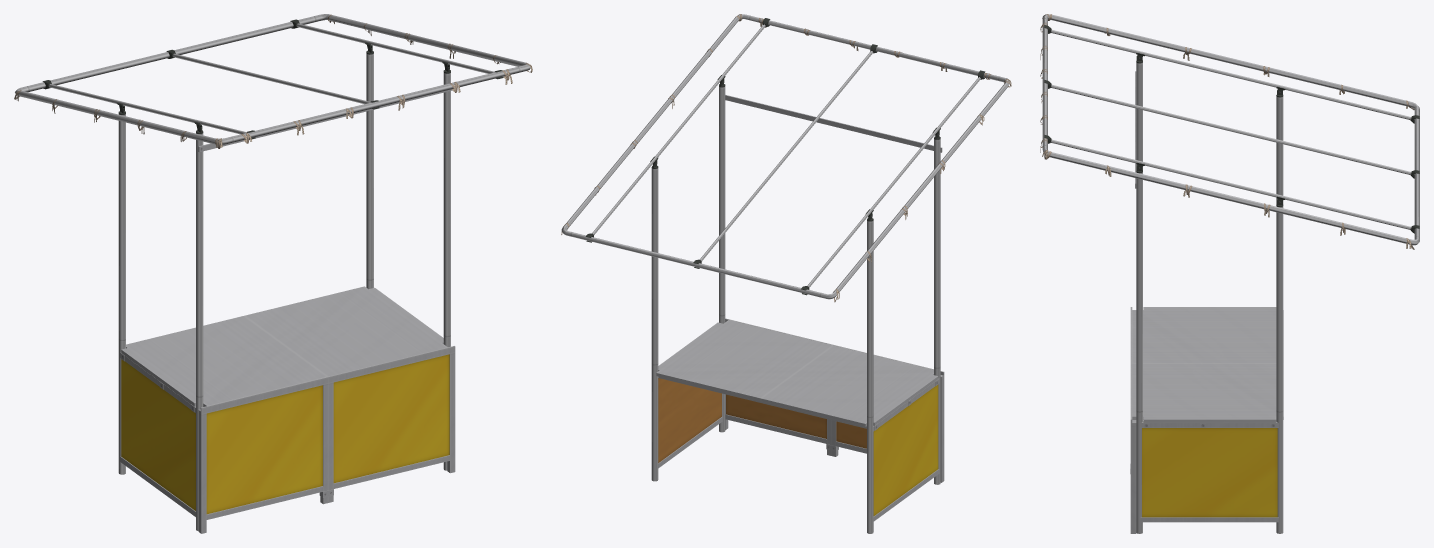
The model's file is jsf_4P_s01_c03_t01.fbx.
3 views of the same model, side by side, from view 1: azimuth 30°, elevation 25°; view 2: azimuth 150°, elevation 25°; view 3: azimuth 270°, elevation 25° (orthographic). The views are drawn at different scales.
Visible parts, largest first — view 1: Base_s01_c03, Table_4P_s01_t01, Pillar4_s01, Rope_4P_s01; view 2: Pillar4_s01, Table_4P_s01_t01, Base_s01_c03, Rope_4P_s01; view 3: Pillar4_s01, Table_4P_s01_t01, Base_s01_c03, Rope_4P_s01.
Part boxes in pixels (x1=…): Base_s01_c03: x1=120, y1=346, x2=455, y2=533; Table_4P_s01_t01: x1=121, y1=286, x2=447, y2=412; Pillar4_s01: x1=15, y1=14, x2=530, y2=530; Rope_4P_s01: x1=14, y1=14, x2=532, y2=148; Pillar4_s01: x1=561, y1=14, x2=1010, y2=533; Table_4P_s01_t01: x1=656, y1=320, x2=938, y2=430; Base_s01_c03: x1=658, y1=318, x2=944, y2=521; Rope_4P_s01: x1=561, y1=14, x2=1011, y2=302; Pillar4_s01: x1=1042, y1=14, x2=1419, y2=533; Table_4P_s01_t01: x1=1132, y1=307, x2=1283, y2=427; Base_s01_c03: x1=1130, y1=307, x2=1278, y2=533; Rope_4P_s01: x1=1040, y1=14, x2=1414, y2=249.
Size of the model in its own units: 186 by 243 by 211.
